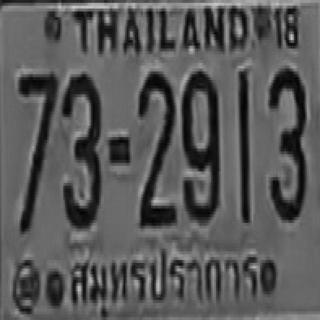N01: (237, 70, 248, 222)
N02: (137, 70, 175, 224)
N03: (61, 71, 100, 226), (268, 66, 305, 220)
N07: (17, 70, 56, 230)
N09: (180, 68, 218, 220)
P57: (68, 243, 262, 313)
